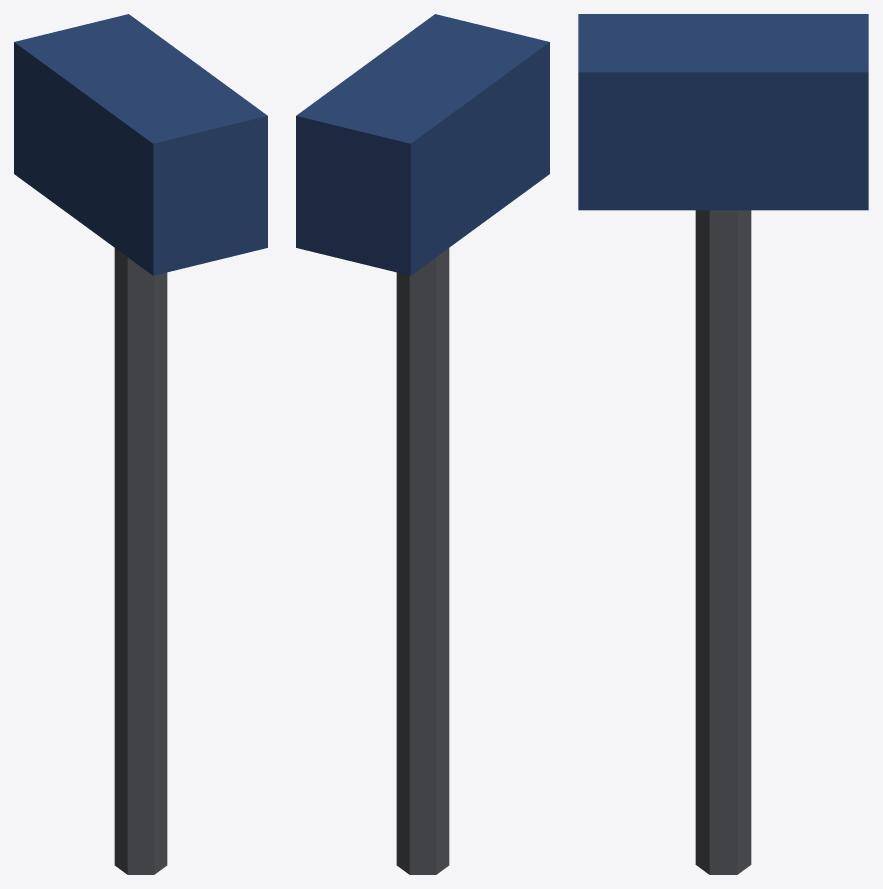
Rendered from mailbox.glb.
3 views of the same model, side by side, from view 1: azimuth 30°, elevation 25°; view 2: azimuth 150°, elevation 25°; view 3: azimuth 270°, elevation 25° (orthographic). The views are drawn at different scales.
Visible parts, largest first — view 1: mailbox; view 2: mailbox; view 3: mailbox.
Boxes of the visible parts, <box> form: mailbox: <box>14,14,267,874</box>; mailbox: <box>296,14,549,874</box>; mailbox: <box>578,14,868,874</box>.
Size of the model in its own units: 0.2 by 1.31 by 0.42.
